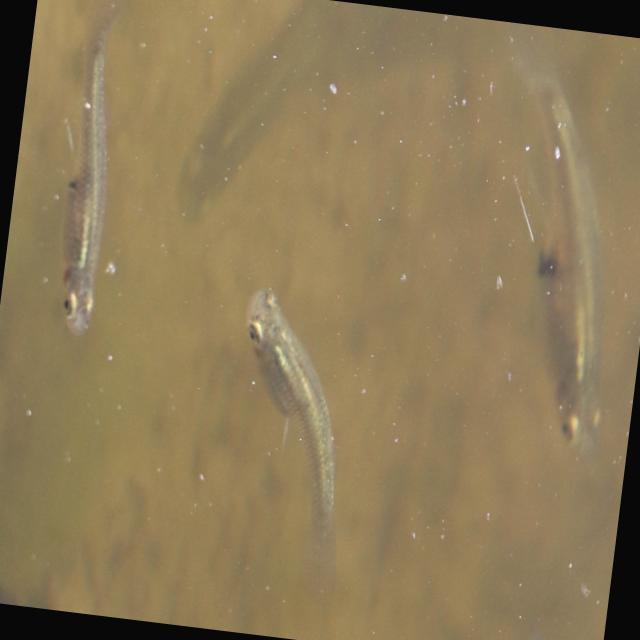Sivrisinek Baligi: (455, 21, 640, 486), (190, 266, 412, 600), (15, 0, 176, 355)
